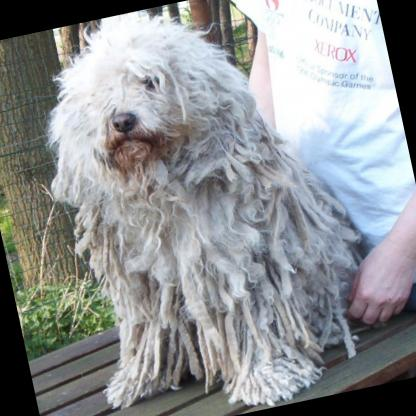komondor: (18, 0, 390, 416)
